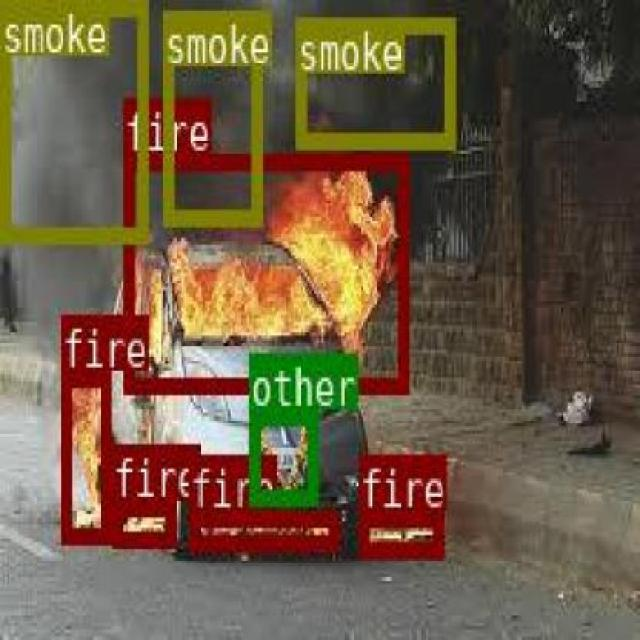fire: (122, 153, 406, 389), (59, 370, 110, 539), (187, 509, 336, 546), (356, 508, 441, 554), (109, 500, 174, 545)
smoke: (0, 0, 145, 242), (162, 8, 260, 224), (295, 18, 453, 147)
